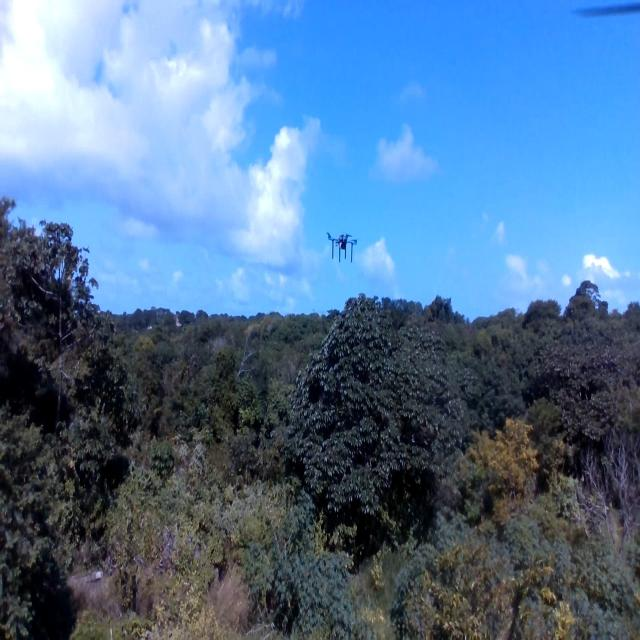-uav-: (318, 220, 363, 268)
